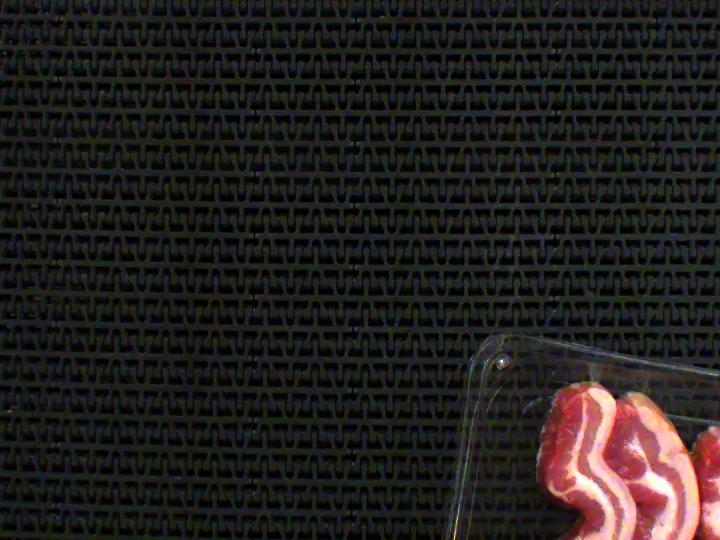packaging-error: (581, 356, 658, 401)
